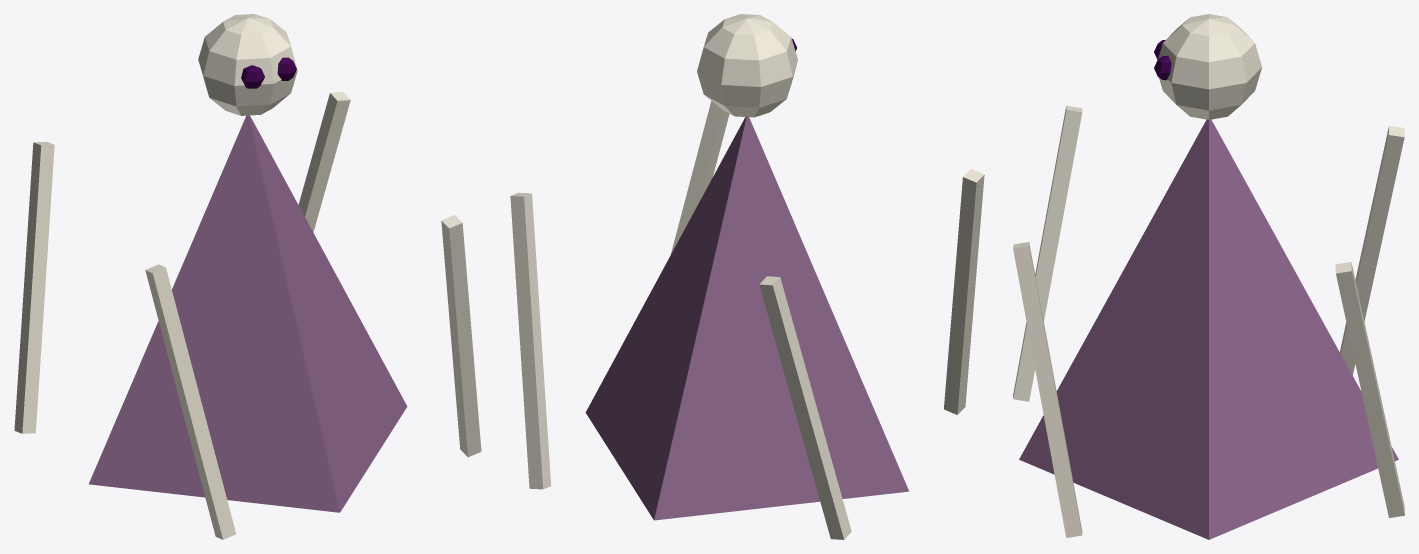
The model's file is voodoo_shrine.dae.
The picture shows the model from 3 angles, left to right: view 1: azimuth 30°, elevation 25°; view 2: azimuth 150°, elevation 25°; view 3: azimuth 270°, elevation 25°; orthographic projection. The views are drawn at different scales.
Visible parts, largest first — view 1: Cone, Sphere, Cylinder.001, Cylinder.002, Cylinder.003, Cylinder; view 2: Cone, Sphere, Cylinder, Cylinder.001, Cylinder.002, Cylinder.003; view 3: Cone, Sphere, Cylinder.003, Cylinder, Cylinder.002, Cylinder.001.
Part boxes in pixels (x1,y1,x2,y2): Cone: (89,115,407,512); Sphere: (198,14,297,115); Cylinder.001: (14,141,54,433); Cylinder.002: (145,264,236,539); Cylinder.003: (441,215,481,457); Cylinder: (298,92,350,232); Cone: (585,117,909,520); Sphere: (697,14,797,117); Cylinder: (510,192,550,489); Cylinder.001: (759,276,851,539); Cylinder.002: (944,169,984,414); Cylinder.003: (670,101,729,254); Cone: (1019,119,1398,539); Sphere: (1158,14,1261,119); Cylinder.003: (1013,242,1082,537); Cylinder: (1335,262,1404,517); Cylinder.002: (1013,105,1082,401); Cylinder.001: (1340,125,1404,375).
Bounding box in the file's own units: 206 × 206 × 256.
